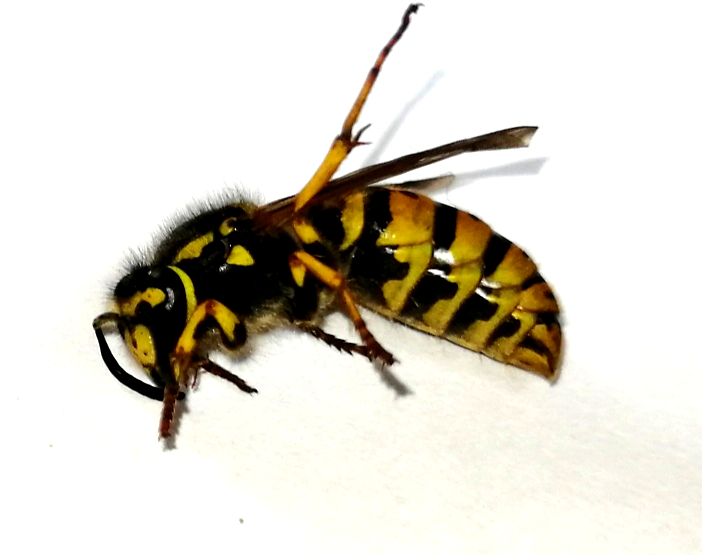chax: (88, 2, 570, 450)
